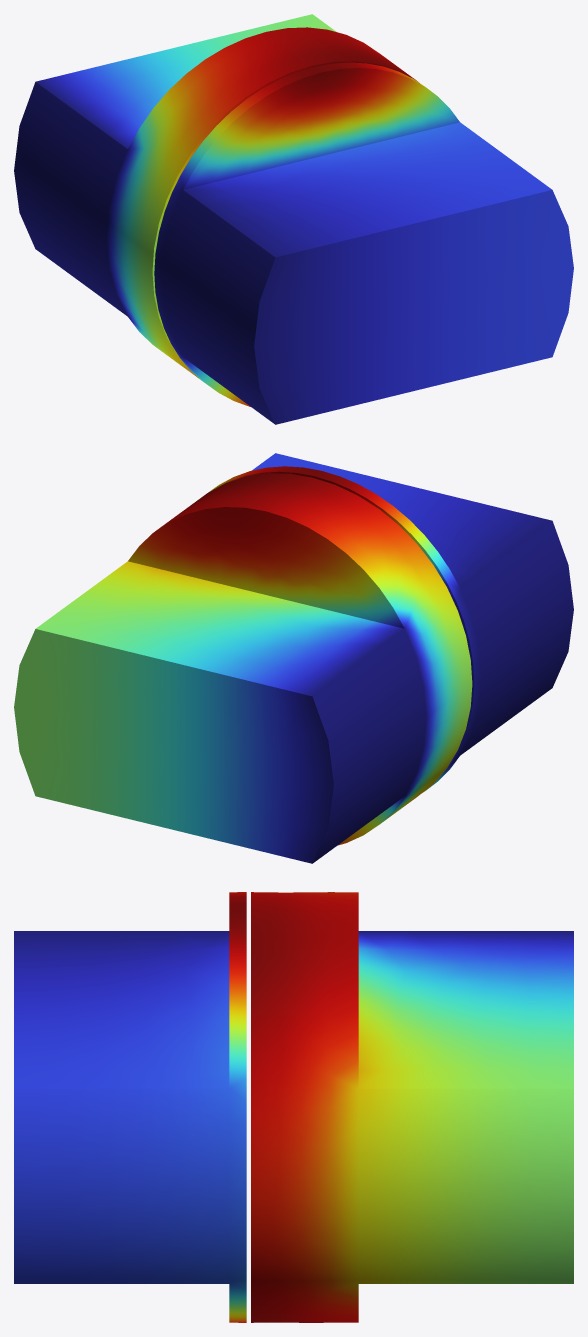
File: PilaN2-H20_mh2-6.88_V-1.glb
3 renders of one model, top to bottom at view 1: azimuth 30°, elevation 25°; view 2: azimuth 150°, elevation 25°; view 3: azimuth 270°, elevation 25°, orthographic. The views are drawn at different scales.
Size of the model in its own units: 0.001 by 0.001 by 0.0013.
Materials: 2 (2 with a texture image).
